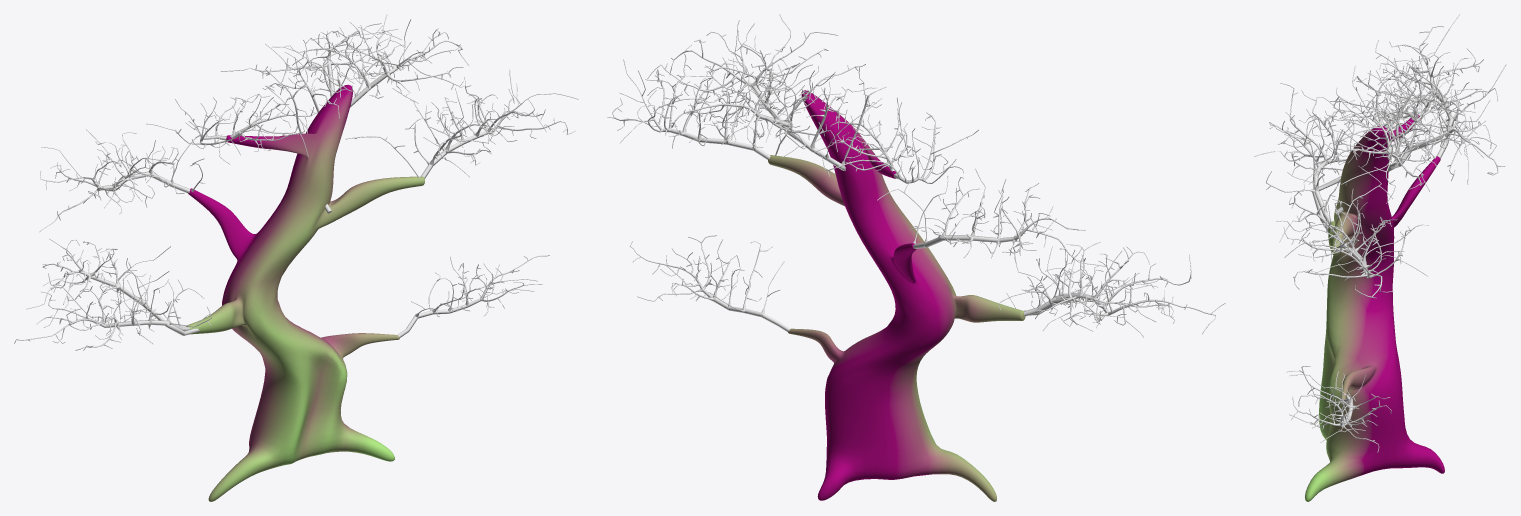
Rendered from landmark-v02.glb.
3 views of the same model, side by side, from view 1: azimuth 30°, elevation 25°; view 2: azimuth 150°, elevation 25°; view 3: azimuth 270°, elevation 25° (orthographic). The views are drawn at different scales.
Parts seen in each view (by area): view 1: Continuous aged trunk and primary branches, Terminal twig hierarchy; view 2: Continuous aged trunk and primary branches, Terminal twig hierarchy; view 3: Continuous aged trunk and primary branches, Terminal twig hierarchy.
Part boxes in pixels (x1,y1,x2,y2): Continuous aged trunk and primary branches: [186, 84, 424, 501]; Terminal twig hierarchy: [14, 14, 578, 350]; Continuous aged trunk and primary branches: [768, 90, 1025, 501]; Terminal twig hierarchy: [607, 14, 1225, 337]; Continuous aged trunk and primary branches: [1305, 114, 1444, 501]; Terminal twig hierarchy: [1254, 14, 1506, 452].
Size of the model in its own units: 2.71 by 1.92 by 1.01.
